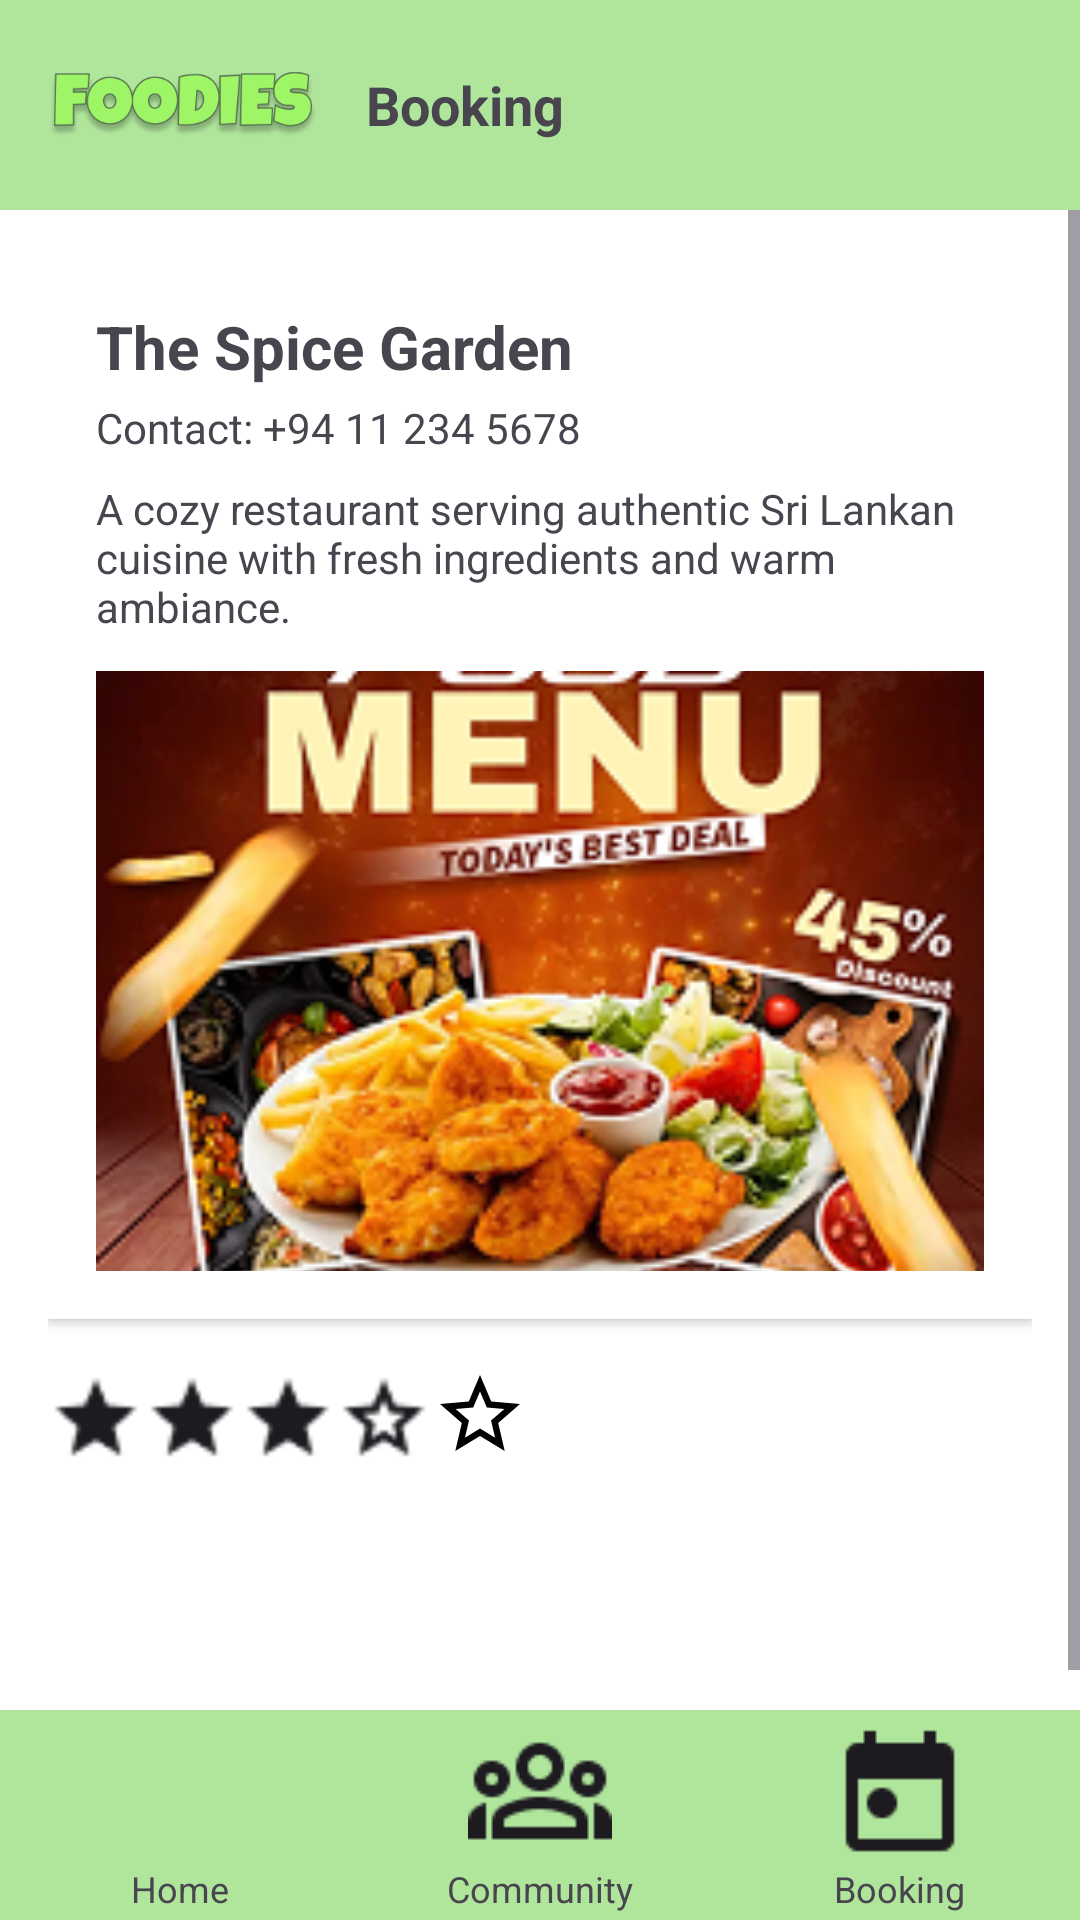

Point at icon controls on the screen. Image size 1080px x 1920px, points as [x,y].
star: [480,1413], [96,1417], [192,1417], [288,1417]
